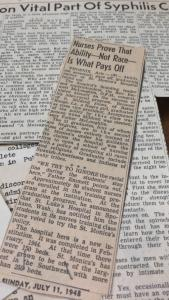paper: (1, 0, 169, 300)
